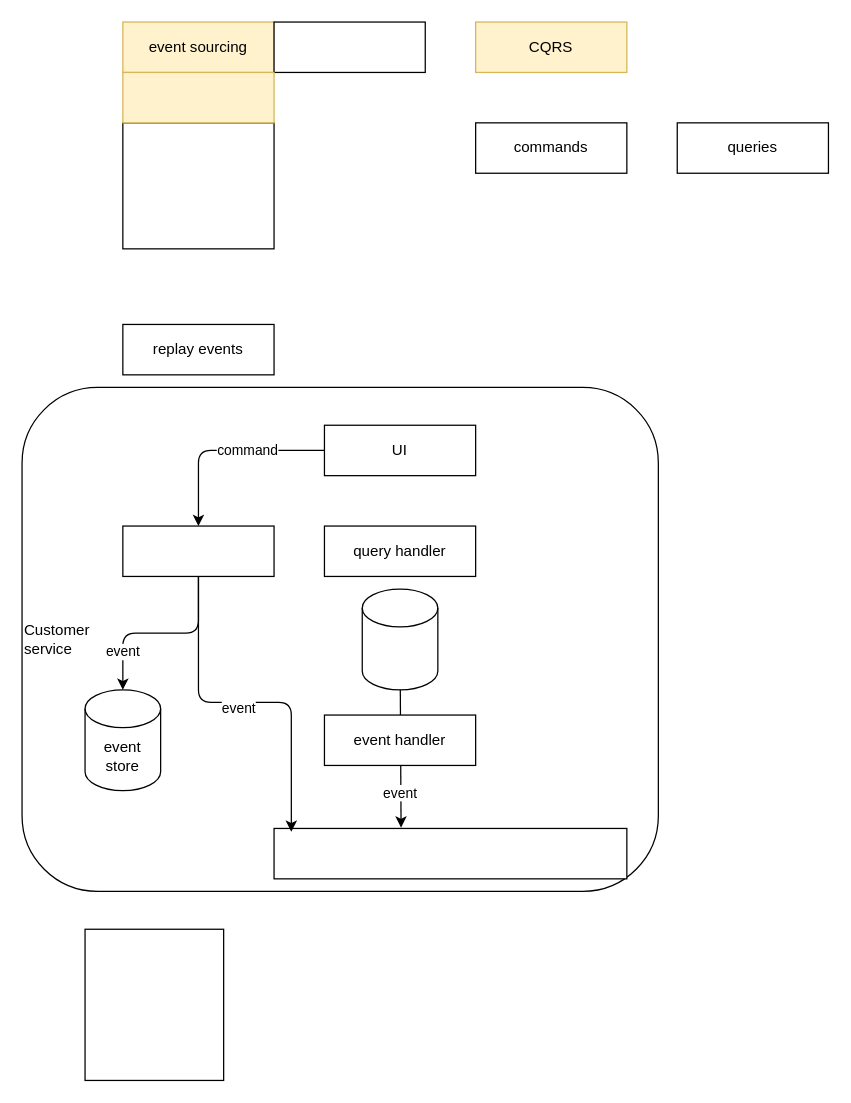
Image size: 851x1103. Some labels were removed from this diagram. The shapes that lost their labels are listed below. From the top down, each one's box as (x1, y1, x2, y2) in pixels, then its label:
(122, 122, 274, 249): createOrder addItem addItem removeItem applyVoucher
(122, 525, 274, 576): command handler
(361, 588, 438, 690): read
(273, 827, 627, 879): EventBus
(84, 928, 224, 1080): Event id aggregate_id event_type payload sequence_number created_at
